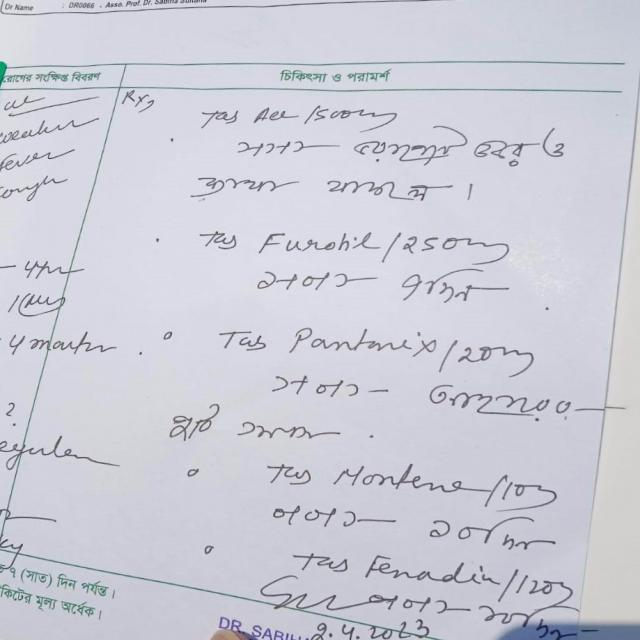Ace: (249, 99, 299, 128)
Fenadin: (362, 545, 501, 595)
Furotil Plus: (253, 226, 388, 267)
Montene: (330, 457, 487, 501)
Pantonix: (280, 318, 444, 368)
